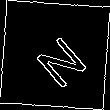N_NW: (24, 23, 86, 87)
